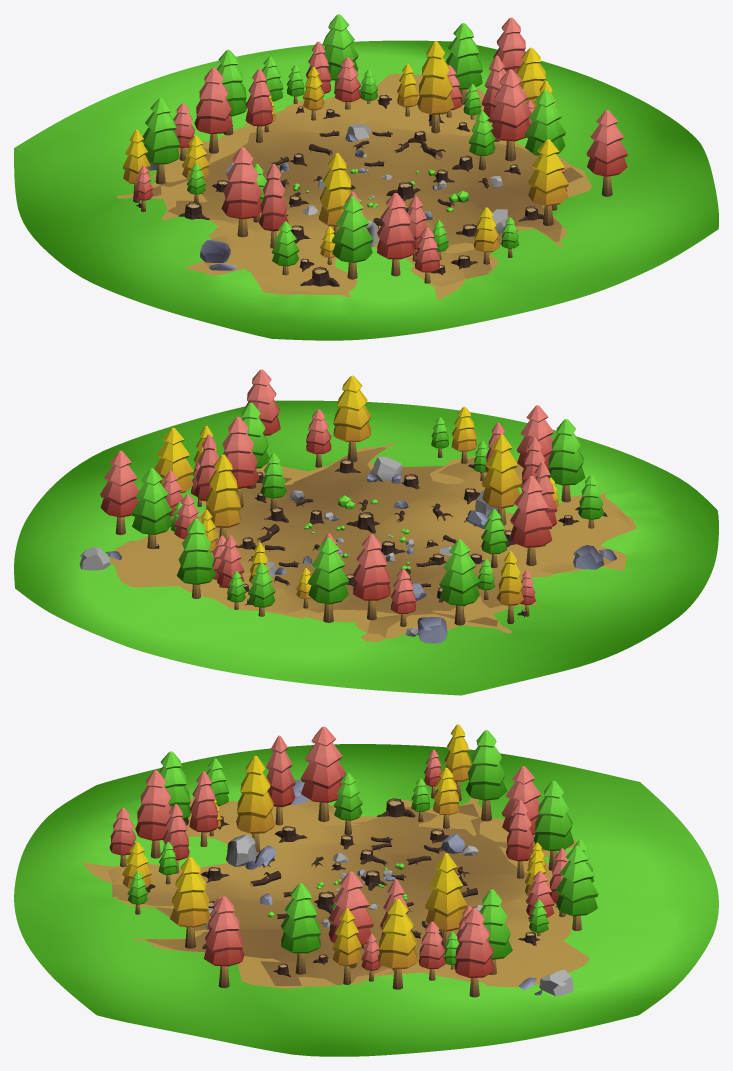
The model's file is EscenaDeforestacion1PI.glb.
3 views of the same model, one above another, from view 1: azimuth 30°, elevation 25°; view 2: azimuth 150°, elevation 25°; view 3: azimuth 270°, elevation 25° (orthographic). The views are drawn at different scales.
Visible parts, largest first — view 1: Floor, treeRed14.001, treeRed14, treeRed20, treeYellow10, treeYellow9.001, treeGreen16.001, treeRed17.001, treeRed17, treeGreen21.001, treeGreen21, treeGreen188 (+23 smaller); view 2: Floor, treeRed14, treeYellow9, treeGreen16, treeGreen21.001, treeRed17, treeYellow10, treeGreen188, treeRed20.001, treeYellow9.001, treeGreen16.001, treeGreen188.001 (+23 smaller); view 3: Floor, treeRed14, treeYellow9.001, treeGreen21, treeYellow9, treeRed20, treeGreen188.001, treeYellow10.001, treeRed20.001, treeYellow10, treeGreen21.001, treeGreen16 (+23 smaller).
Boxes of the visible parts, x1,y1,x2,y2 form: Floor: [14, 40, 718, 340]; treeRed14.001: [489, 69, 531, 161]; treeRed14: [221, 147, 261, 237]; treeRed20: [586, 110, 627, 196]; treeYellow10: [527, 139, 568, 225]; treeYellow9.001: [417, 41, 454, 133]; treeGreen16.001: [332, 196, 373, 279]; treeRed17.001: [377, 193, 414, 276]; treeRed17: [194, 67, 232, 153]; treeGreen21.001: [142, 98, 179, 184]; treeGreen21: [524, 90, 565, 155]; treeGreen188: [445, 23, 482, 103]; Floor: [14, 400, 718, 695]; treeRed14: [510, 475, 552, 565]; treeYellow9: [481, 434, 521, 525]; treeGreen16: [308, 537, 349, 622]; treeGreen21.001: [439, 539, 480, 625]; treeRed17: [353, 534, 390, 620]; treeYellow10: [333, 375, 371, 462]; treeGreen188: [131, 468, 172, 548]; treeRed20.001: [100, 450, 139, 535]; treeYellow9.001: [205, 454, 241, 539]; treeGreen16.001: [548, 419, 585, 502]; treeGreen188.001: [176, 518, 215, 598]; Floor: [14, 744, 718, 1056]; treeRed14: [300, 726, 346, 821]; treeYellow9.001: [425, 853, 467, 949]; treeGreen21: [281, 883, 320, 974]; treeYellow9: [236, 755, 274, 852]; treeRed20: [204, 896, 244, 988]; treeGreen188.001: [555, 845, 598, 930]; treeYellow10.001: [378, 899, 417, 989]; treeRed20.001: [454, 907, 494, 997]; treeYellow10: [170, 857, 210, 948]; treeGreen21.001: [465, 730, 507, 821]; treeGreen16: [534, 780, 573, 870].
Size of the model in its own units: 163 by 27.66 by 155.
Materials: 9 (9 with a texture image).
